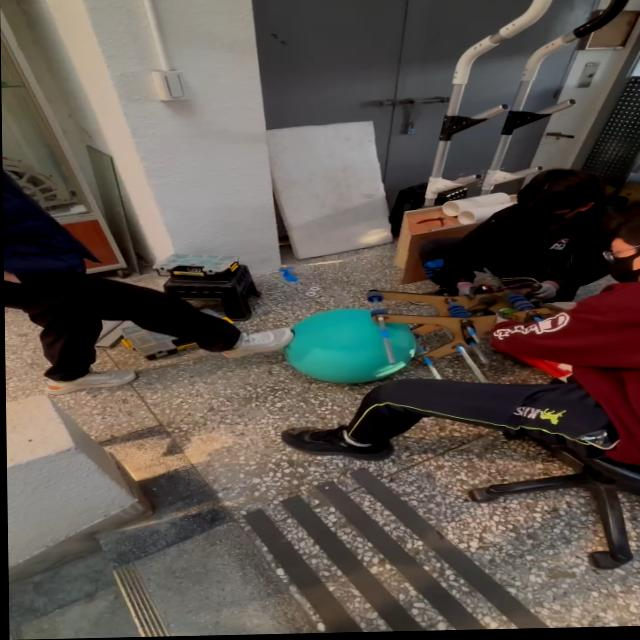ALGAE: (280, 305, 419, 386)
